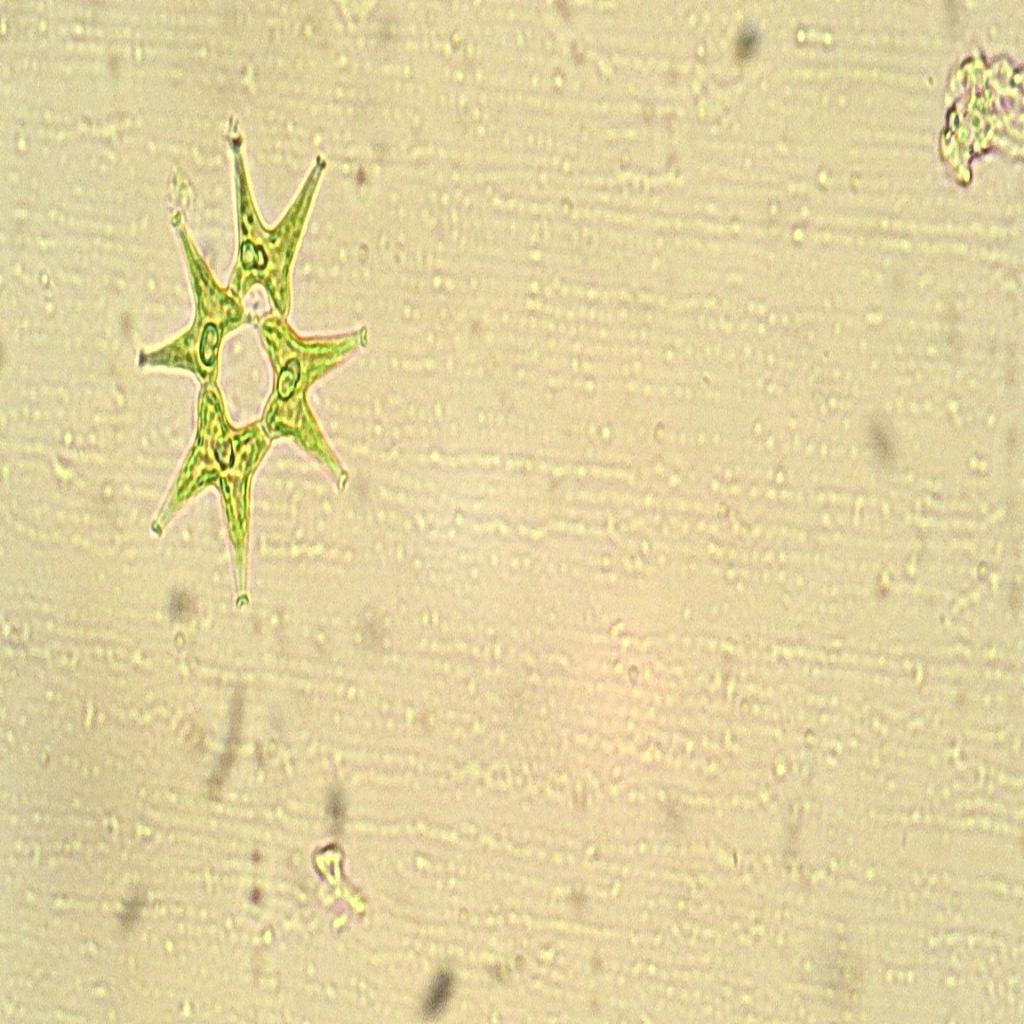Pediastrum_75FO: (125, 120, 375, 628)
